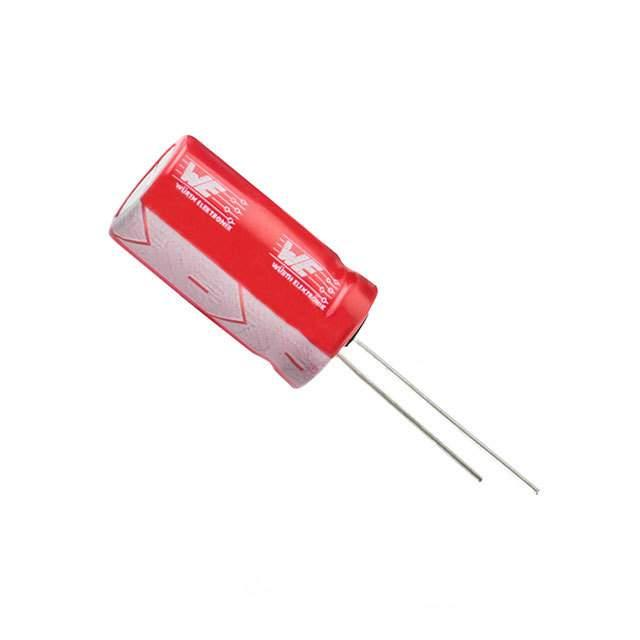Capacitor: (108, 135, 379, 391)
